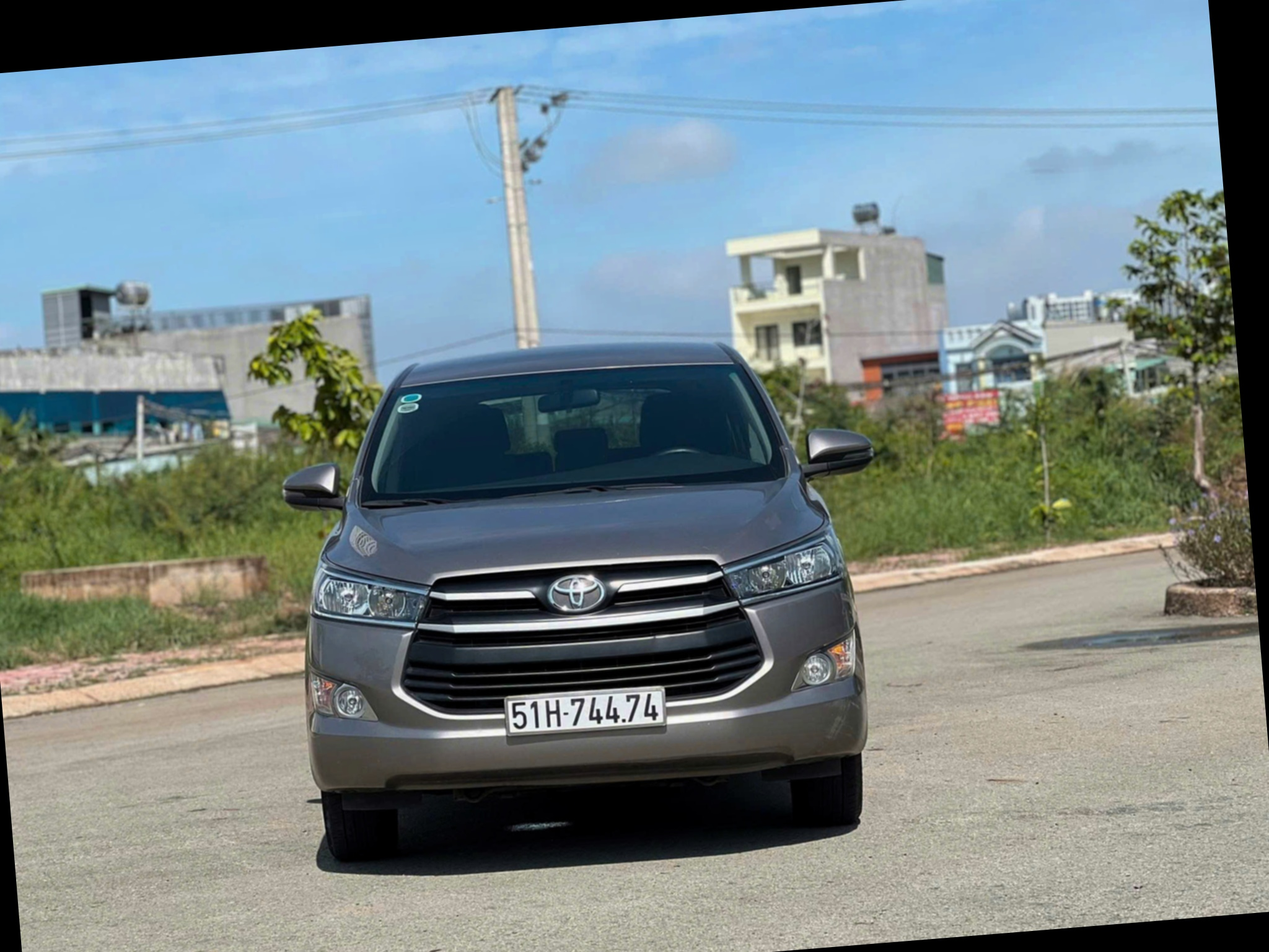Bien-so: (499, 680, 675, 747)
